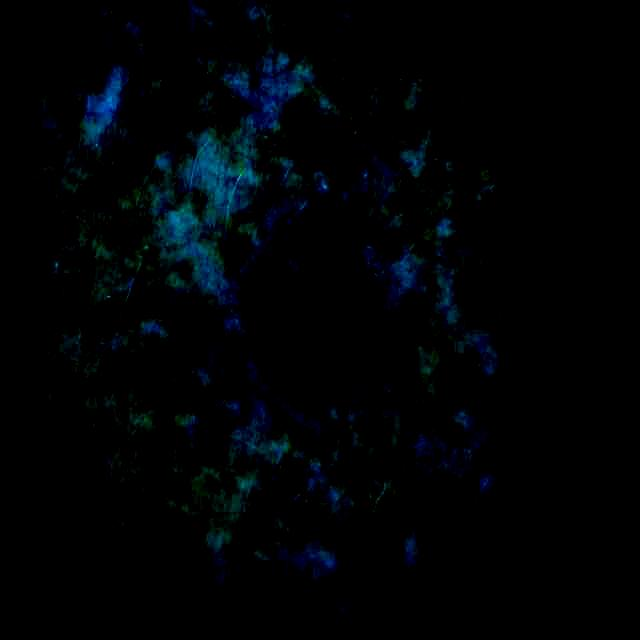VASC: (271, 259, 359, 383)
